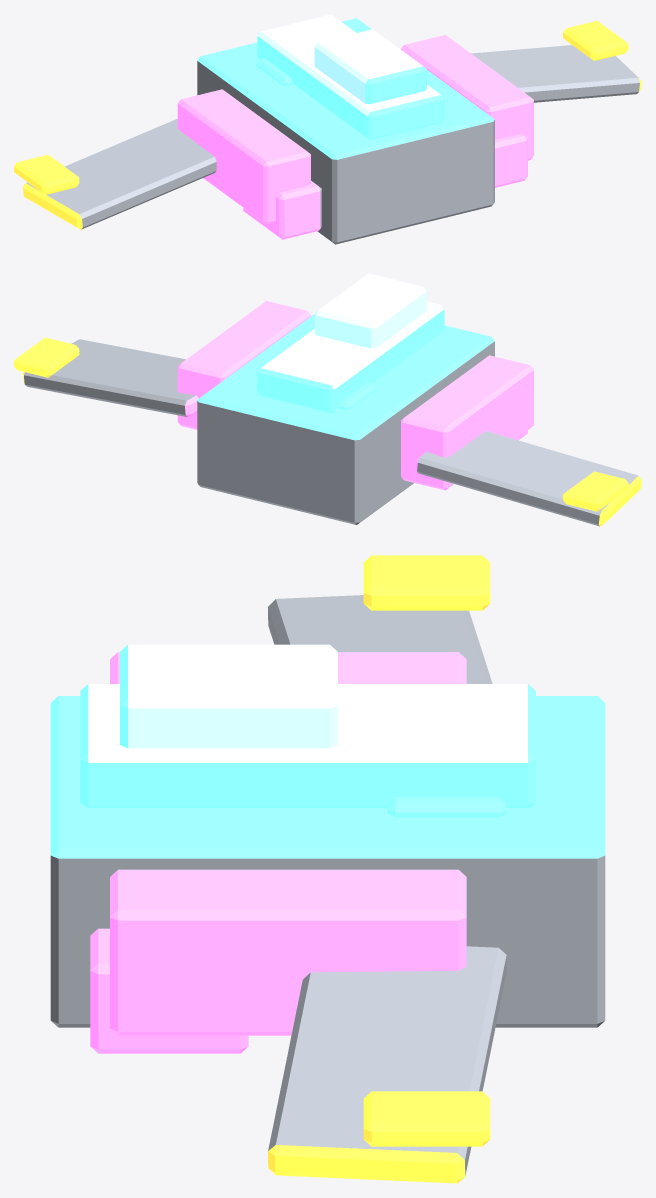
File: Ship_Body_Upgrade01.fbx
3 views of the same model, one above another, from view 1: azimuth 30°, elevation 25°; view 2: azimuth 150°, elevation 25°; view 3: azimuth 270°, elevation 25° (orthographic). The views are drawn at different scales.
Parts seen in each view (by area): view 1: Ship_Body_Upgrade01; view 2: Ship_Body_Upgrade01; view 3: Ship_Body_Upgrade01.
Part boxes in pixels (<box>): Ship_Body_Upgrade01: <box>14,14,641,244</box>; Ship_Body_Upgrade01: <box>14,273,641,526</box>; Ship_Body_Upgrade01: <box>50,555,605,1183</box>.
Size of the model in its own units: 3.42 by 0.78 by 1.4.
